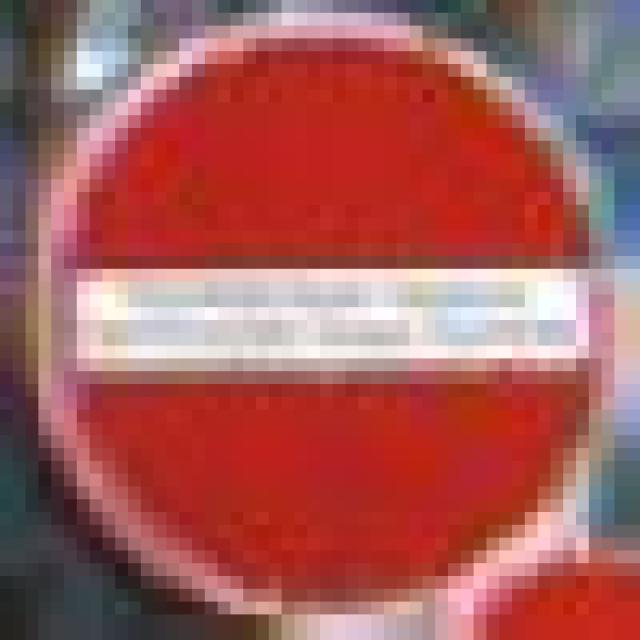NO_ENTRY: (39, 18, 608, 618)
